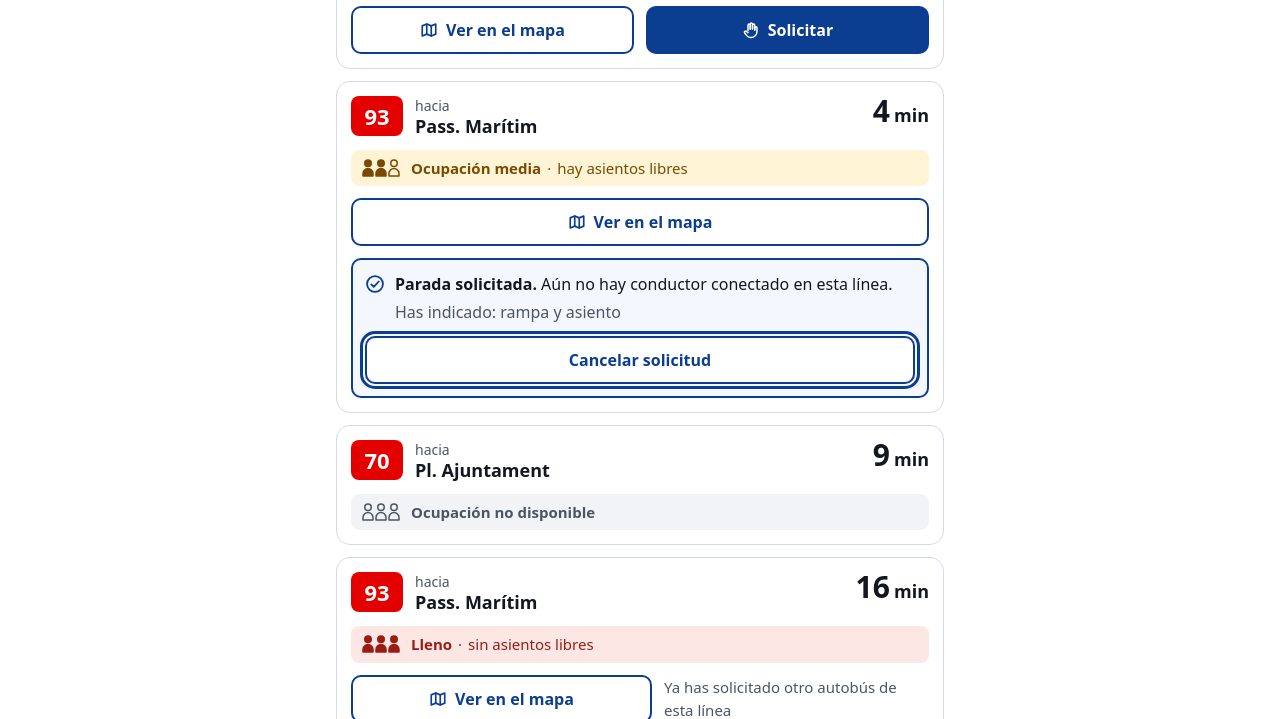
Test: StopPage with stop requests › [passenger_alert_ui.AC-09] "Cancelar solicitud" sends DELETE without confirmation and gives the focus to "Solicitar" of the card
The width and height of the screenshot is (1280, 719).
(page scrolled)
Click the button "Cancelar solicitud" at (640, 360), box [365,336,915,384]
Wait 100 ms
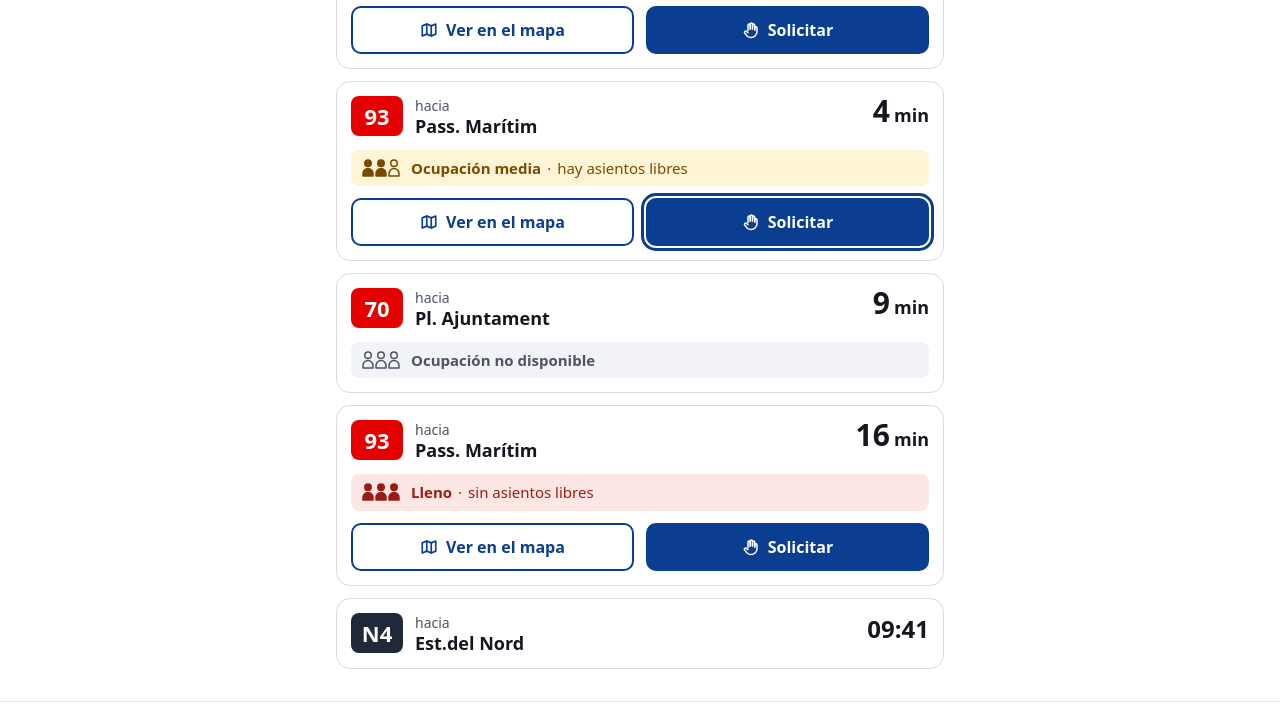
Result: the button "Cancelar solicitud" is gone
